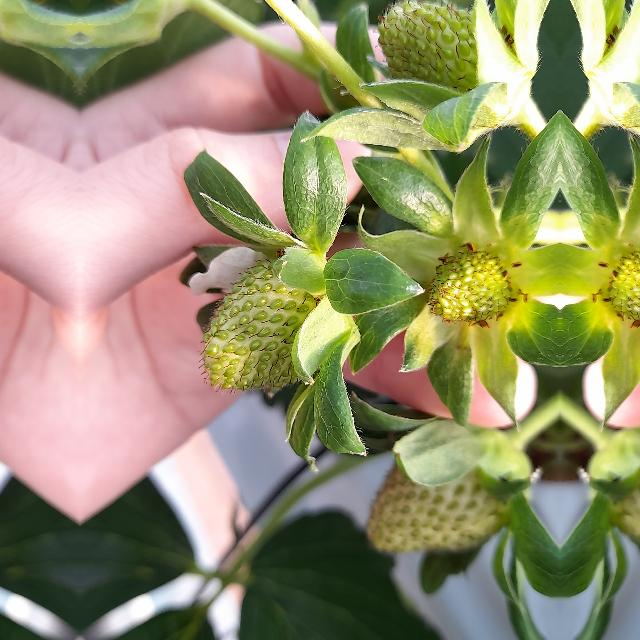Health_25: (197, 246, 355, 394), (360, 429, 520, 555), (372, 0, 506, 122), (429, 244, 523, 332), (600, 429, 640, 555), (597, 243, 640, 332)
